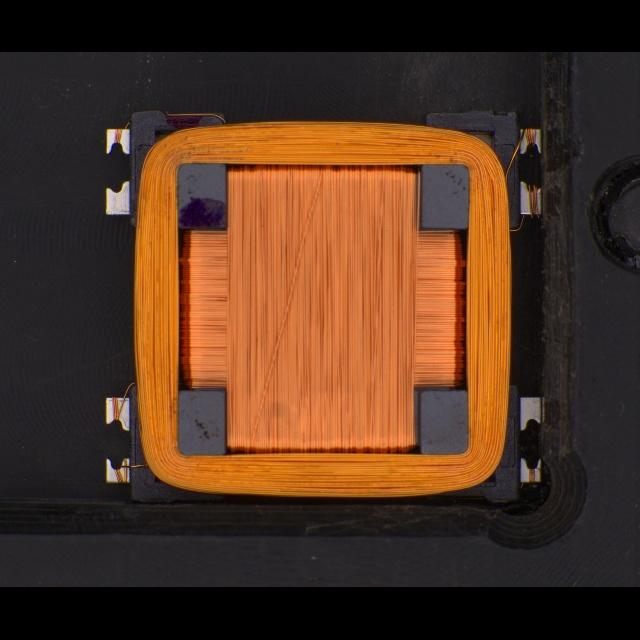Winding_Z: (124, 114, 517, 500)
